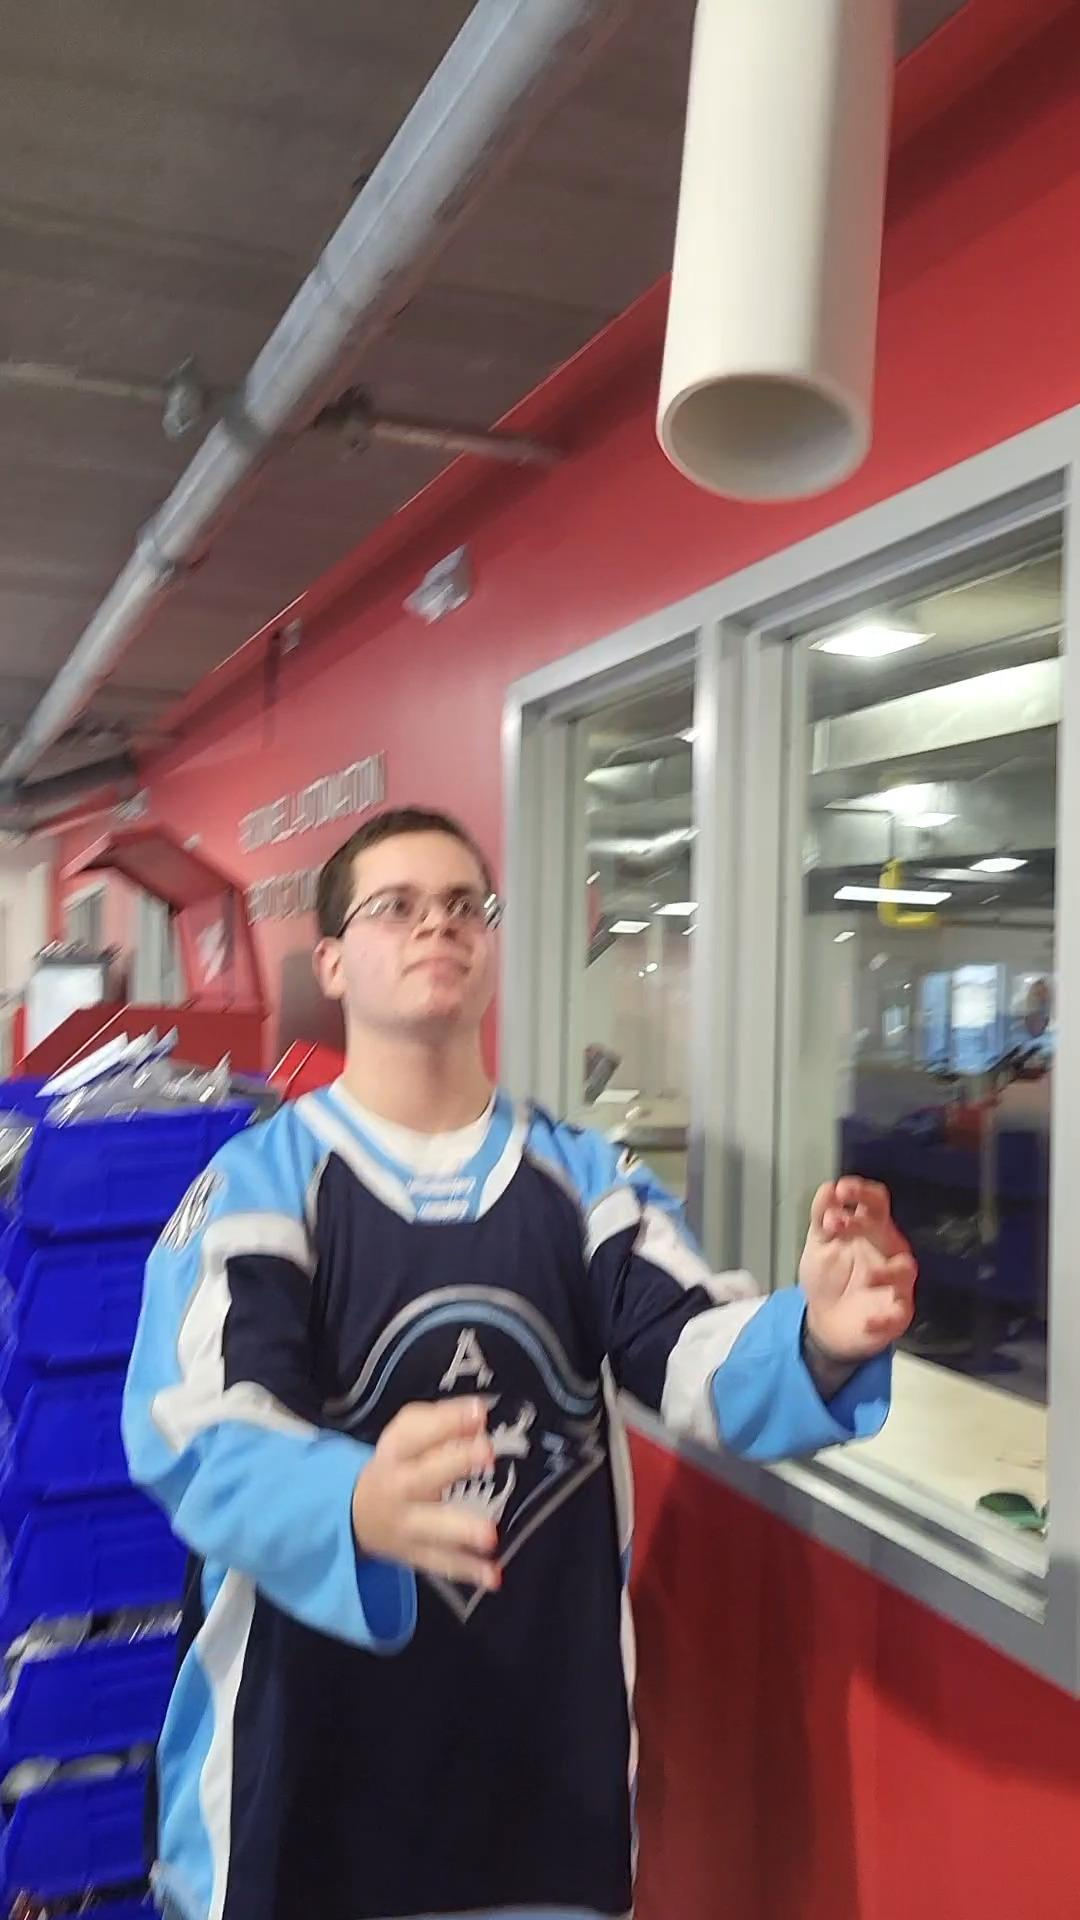coral: (657, 0, 903, 517)
